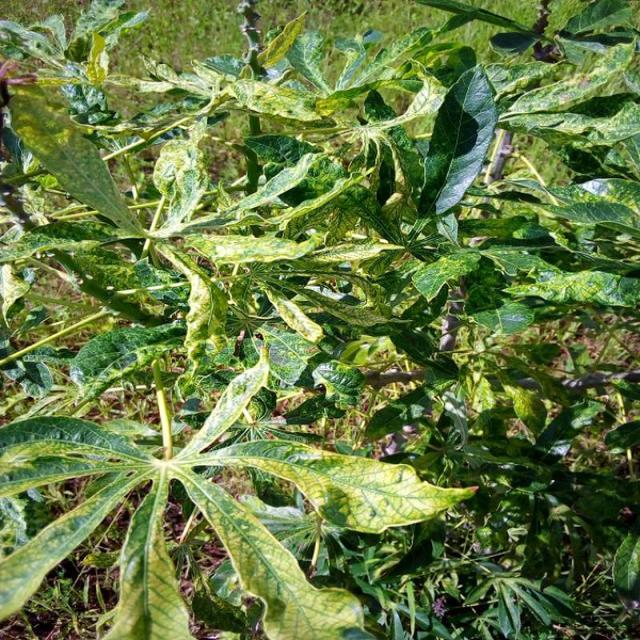cassava leaf: (173, 464, 366, 638), (416, 62, 498, 220)
